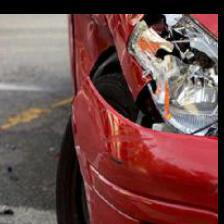head_lamp: (83, 6, 224, 180)
